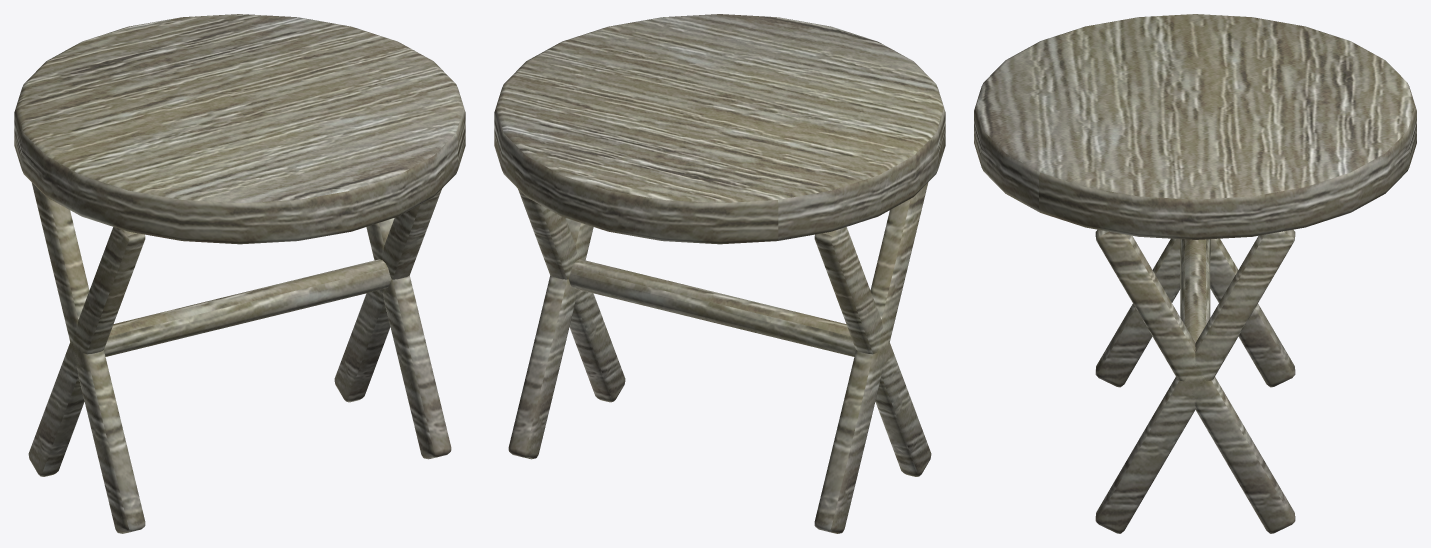
Rendered from Antique_Chair_16.fbx.
3 renders of one model, left to right at view 1: azimuth 30°, elevation 25°; view 2: azimuth 150°, elevation 25°; view 3: azimuth 270°, elevation 25°, orthographic.
Visible parts, largest first — view 1: Antique_Chair; view 2: Antique_Chair; view 3: Antique_Chair.
Boxes of the visible parts, x1,y1,x2,y2 form: Antique_Chair: (14, 14, 465, 533); Antique_Chair: (494, 14, 945, 533); Antique_Chair: (974, 14, 1416, 533).
Bounding box in the file's own units: 0.552 × 0.485 × 0.552.
1 material, 1 textured.
